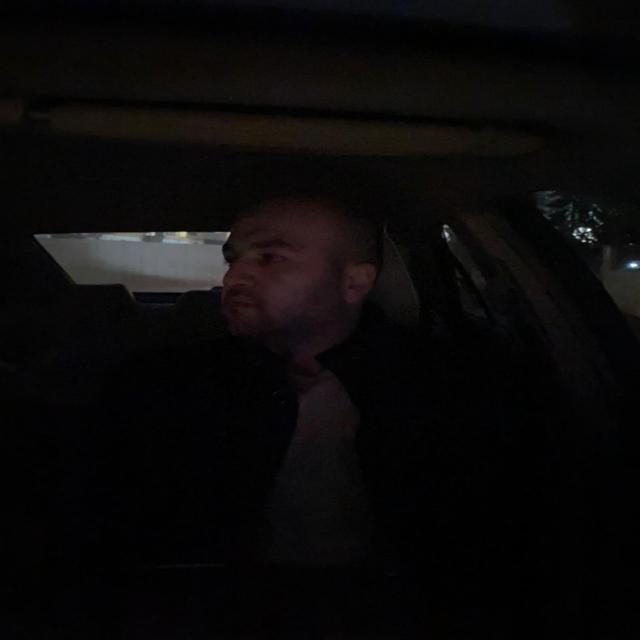person: (207, 180, 401, 350)
